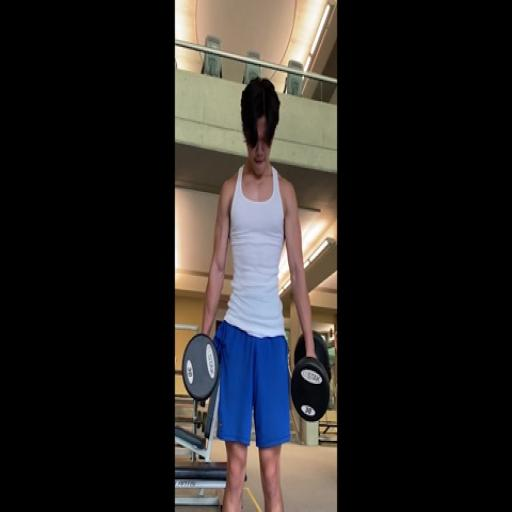exercise: (196, 74, 322, 511)
